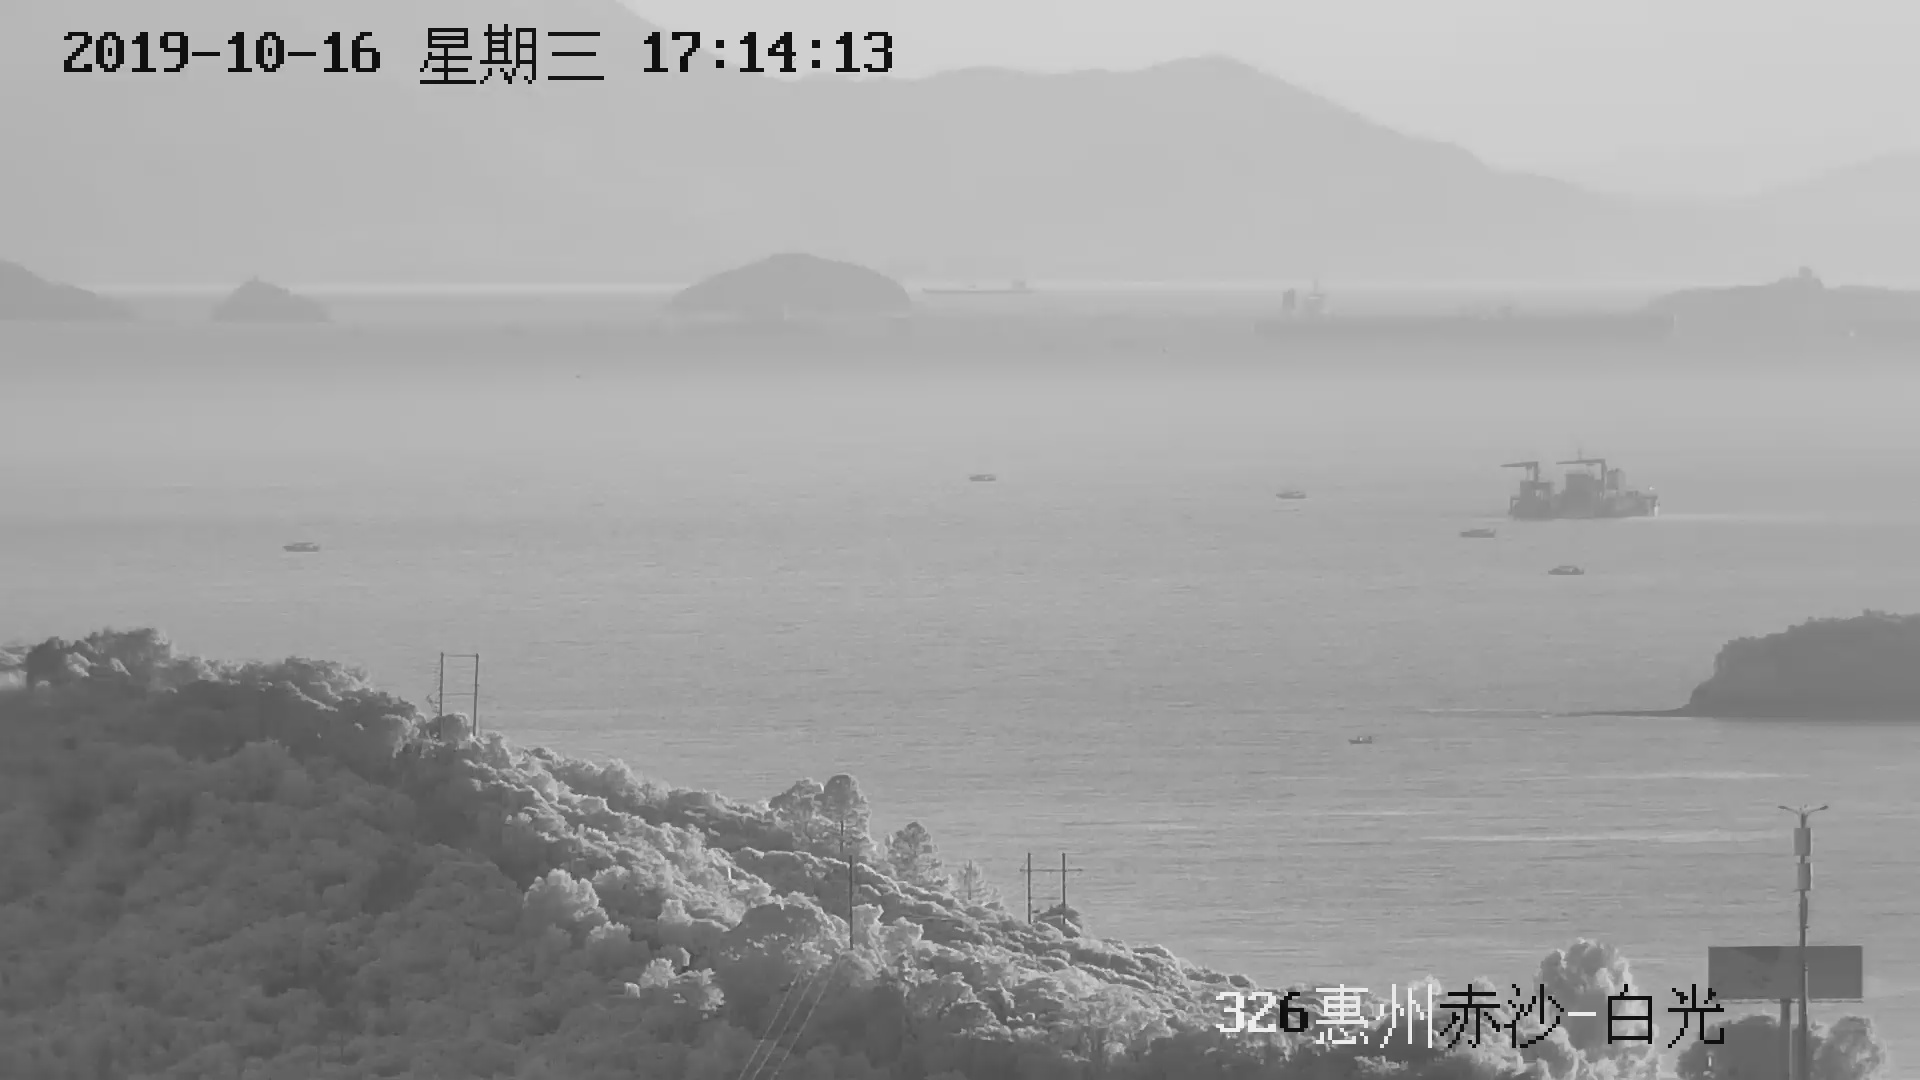ship: (1503, 446, 1662, 524)
